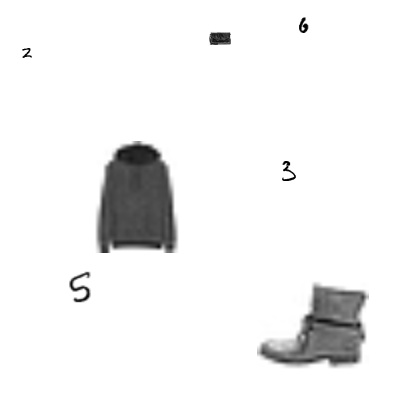2: (20, 46, 34, 60)
3: (274, 157, 302, 185)
5: (59, 266, 101, 308)
6: (292, 15, 314, 37)
Ankle_boot: (257, 267, 369, 379)
Bag: (209, 27, 231, 49)
Pullover: (81, 141, 193, 253)
